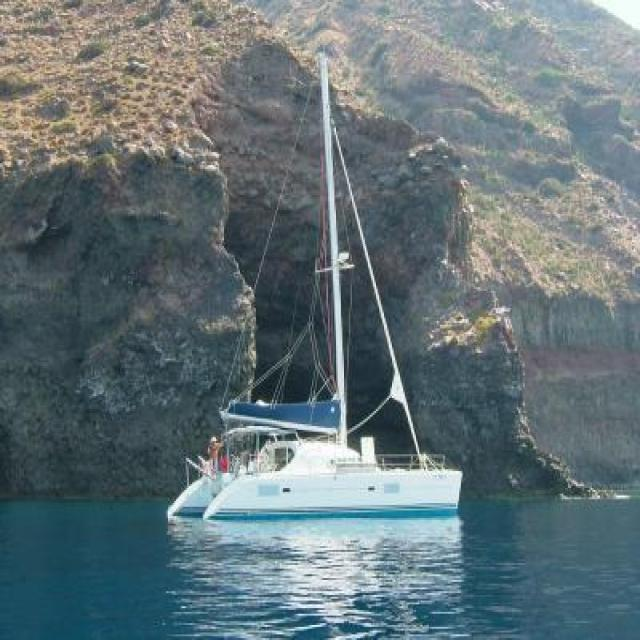Ship: (154, 63, 479, 521)
